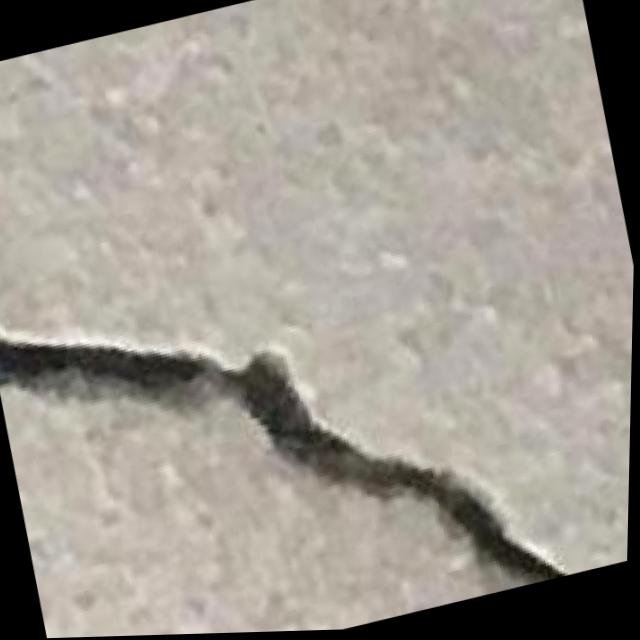Crack: (0, 191, 591, 640)
